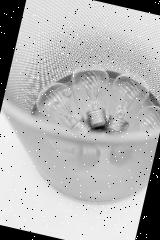lightbulb: (23, 52, 160, 179)
